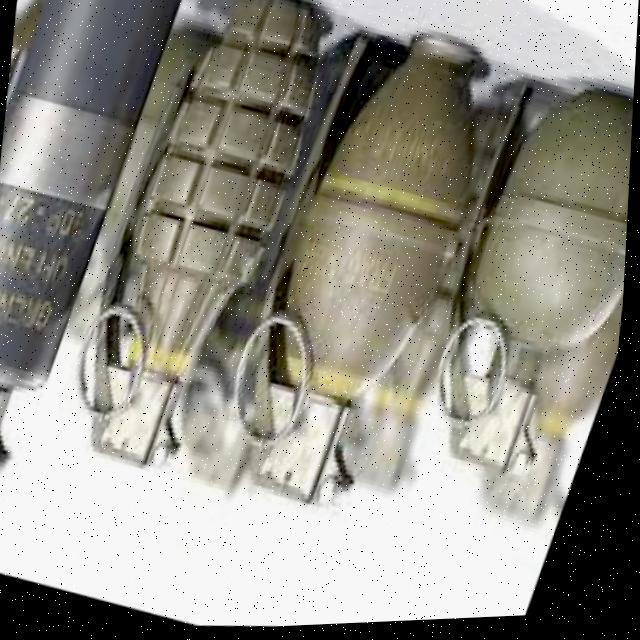grenade: (189, 0, 530, 543), (33, 0, 342, 510), (399, 71, 636, 516), (0, 0, 193, 502)
